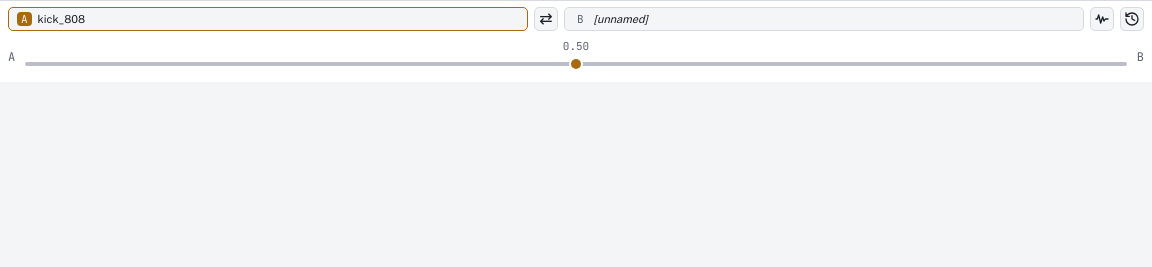
Test: MorphStrip with a whole pair › lays the morph's waveform out as one row on a phone, like a sample's player
Expected: the text "kick_808" is shown, [38, 13, 85, 25]
Click the button named "Waveform".
click(1102, 19)  # box [1090, 7, 1114, 31]
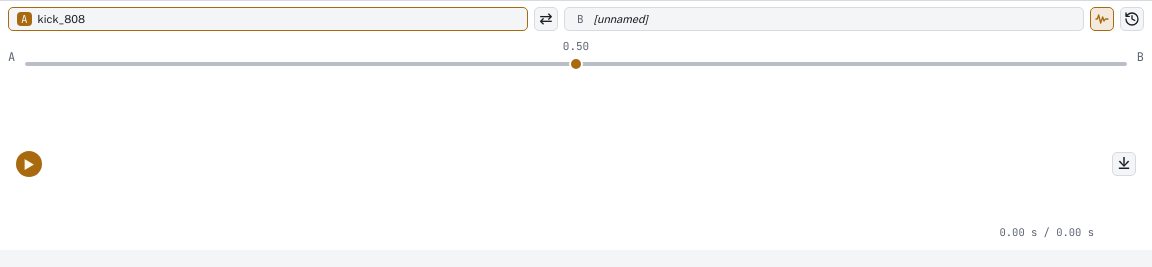
Now the text with class "wave-time" reads "0.00 s / 0.00 s", box [1000, 225, 1094, 239]
